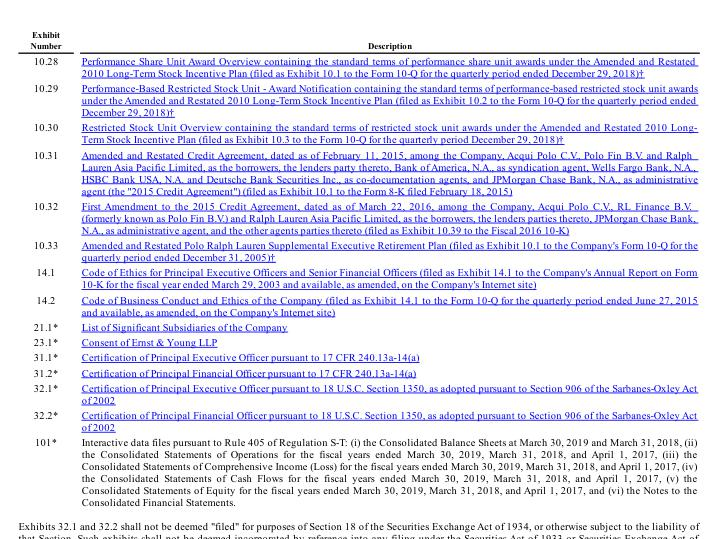table: (29, 29, 697, 507)
table column: (70, 29, 697, 507), (29, 29, 70, 507)
table column header: (29, 29, 697, 52)
table row: (29, 434, 697, 507), (29, 146, 697, 197), (29, 79, 697, 119), (29, 197, 697, 236), (29, 236, 697, 264), (29, 406, 697, 434), (29, 52, 697, 79), (29, 119, 697, 146), (29, 264, 697, 291), (29, 291, 697, 318), (29, 379, 697, 406), (29, 29, 697, 52), (29, 333, 697, 349), (29, 318, 697, 333), (29, 349, 697, 364), (29, 364, 697, 379)
